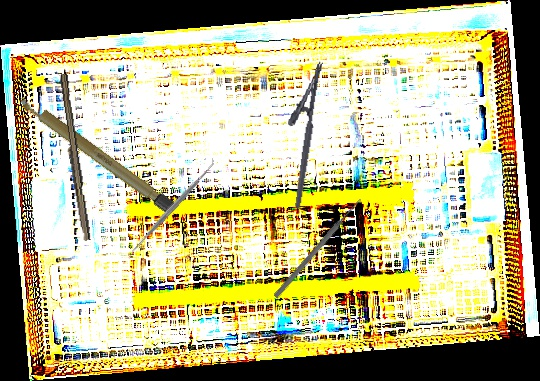Needle Holder: (275, 57, 324, 209)
Pusher: (272, 196, 364, 300)
Scalpel Handle: (16, 92, 177, 215), (54, 73, 94, 242)
Spatula Surgical: (124, 156, 222, 258)
